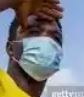with_facemask: (22, 36, 66, 79)
